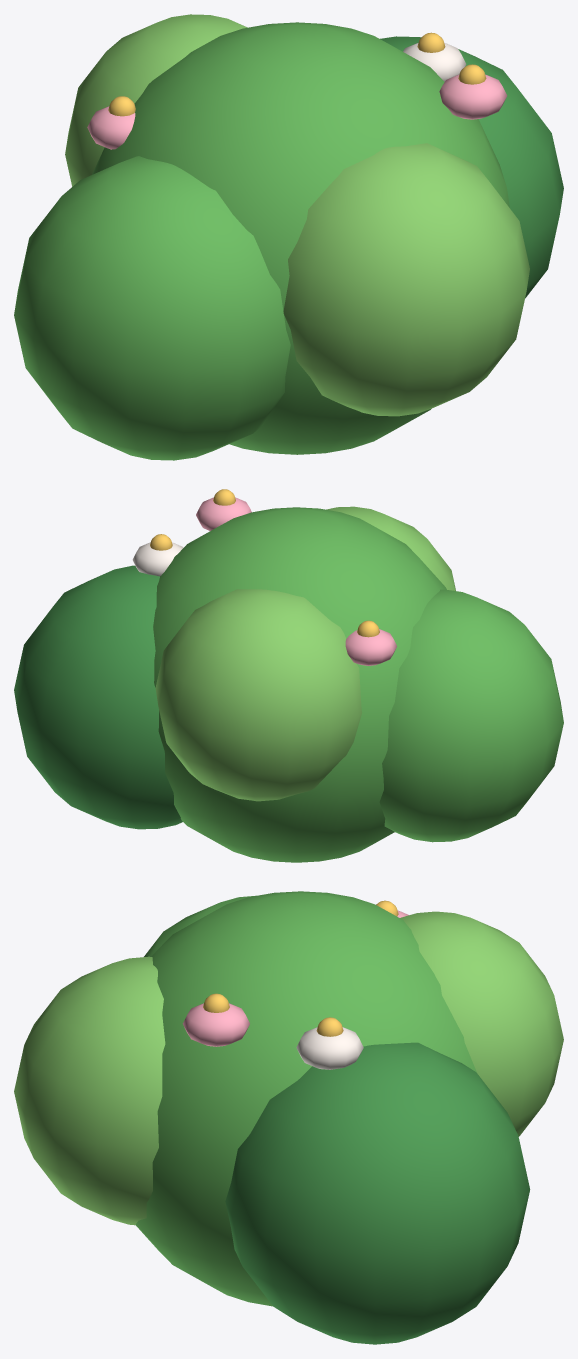
File: bush_flowers.glb
The picture shows the model from 3 angles, top to bottom: view 1: azimuth 30°, elevation 25°; view 2: azimuth 150°, elevation 25°; view 3: azimuth 270°, elevation 25°; orthographic projection. The views are drawn at different scales.
Parts seen in each view (by area): view 1: bush_flowers; view 2: bush_flowers; view 3: bush_flowers.
Boxes of the visible parts, x1,y1,x2,y2 form: bush_flowers: (14,14,563,460); bush_flowers: (14,489,563,862); bush_flowers: (14,891,563,1344).
Size of the model in its own units: 1.88 by 1.24 by 1.63.
